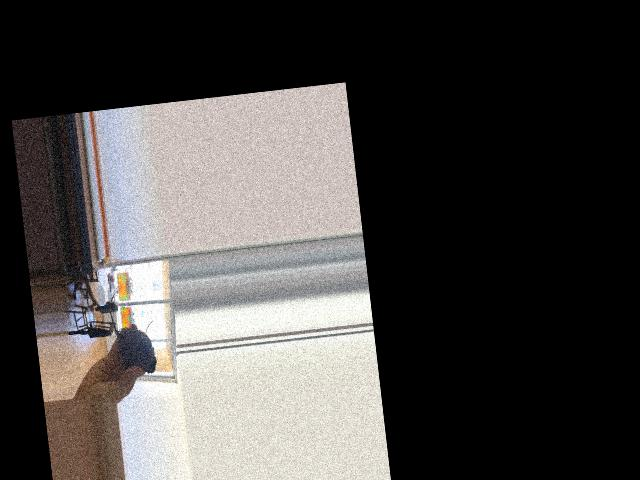beet: (107, 289, 158, 376)
